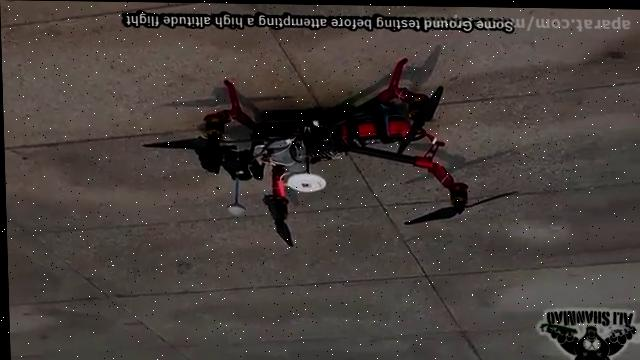drone: (136, 50, 523, 254)
